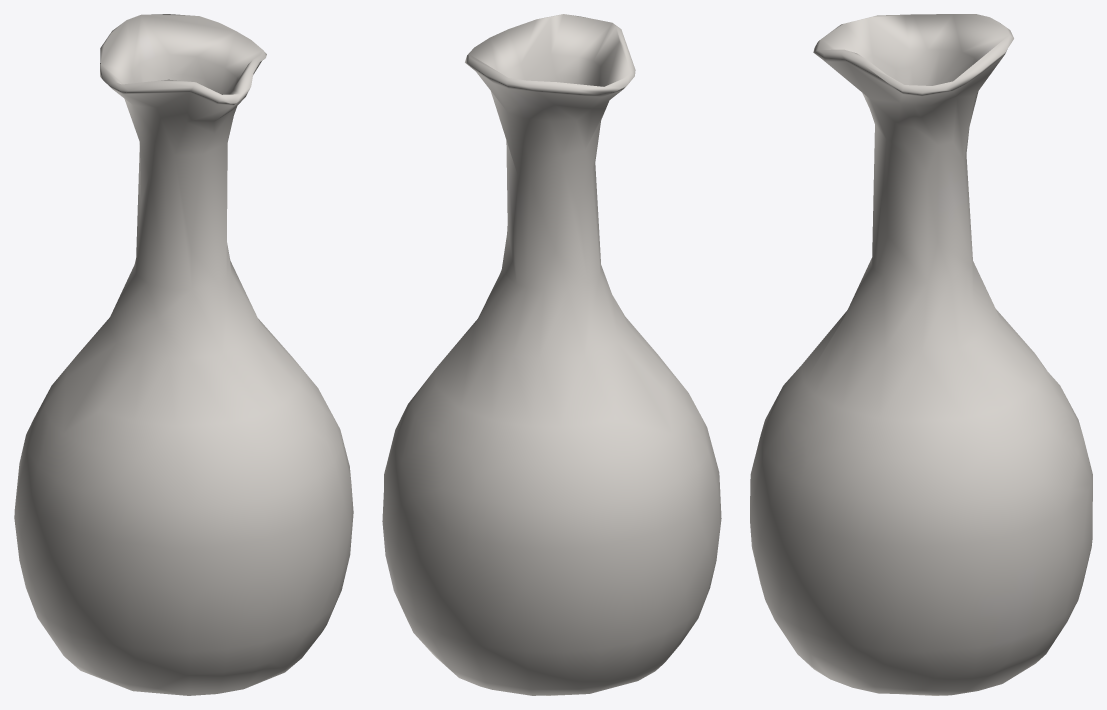
Rendered from vase.glb.
3 renders of one model, left to right at view 1: azimuth 30°, elevation 25°; view 2: azimuth 150°, elevation 25°; view 3: azimuth 270°, elevation 25°, orthographic.
Visible parts, largest first — view 1: ceramic_vase_01; view 2: ceramic_vase_01; view 3: ceramic_vase_01.
Boxes of the visible parts, x1=… form: ceramic_vase_01: x1=14, y1=14, x2=353, y2=695; ceramic_vase_01: x1=382, y1=14, x2=721, y2=695; ceramic_vase_01: x1=750, y1=14, x2=1092, y2=695.
Bounding box in the file's own units: 0.2021 × 0.4002 × 0.2018.
1 material, 1 textured.
